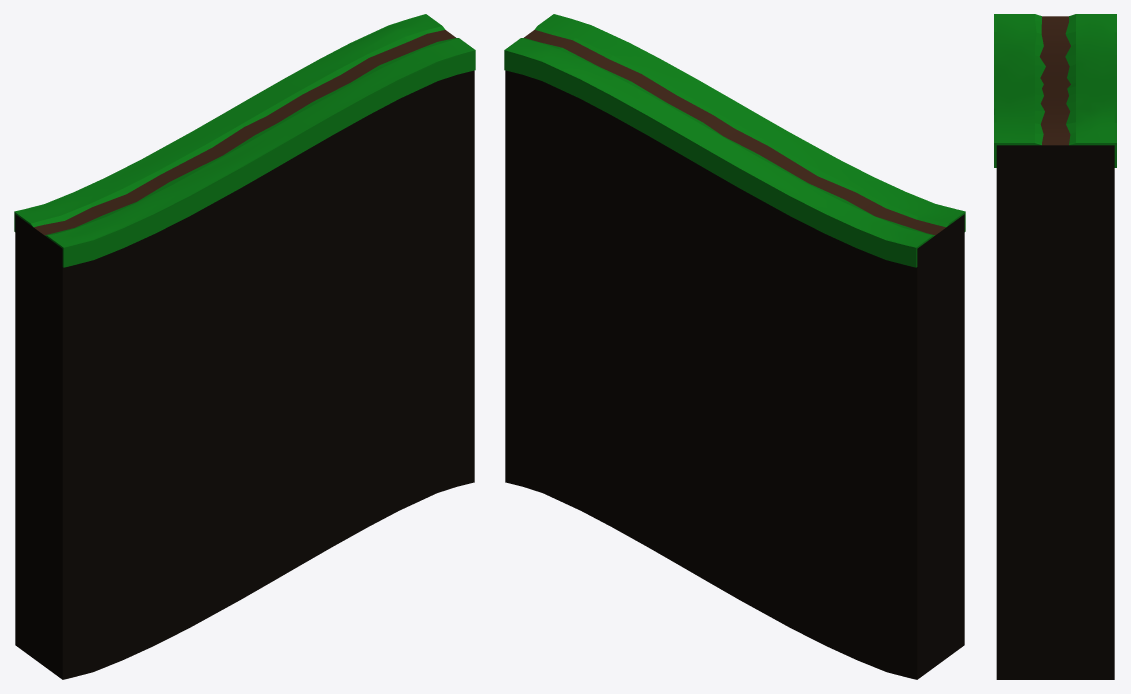
The model's file is blockSlope01.fbx.
The picture shows the model from 3 angles, left to right: view 1: azimuth 30°, elevation 25°; view 2: azimuth 150°, elevation 25°; view 3: azimuth 270°, elevation 25°; orthographic projection. The views are drawn at different scales.
Parts seen in each view (by area): view 1: Box001; view 2: Box001; view 3: Box001.
Part boxes in pixels (<box>): Box001: <box>14,14,475,679</box>; Box001: <box>504,14,965,679</box>; Box001: <box>994,14,1116,679</box>.
Bounding box in the file's own units: 50 × 10.41 × 61.53.
